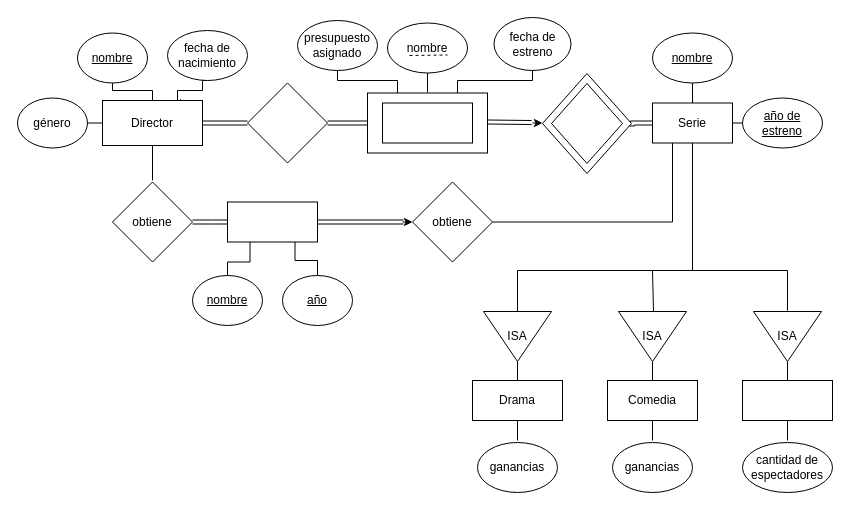
Some shapes in this 850 by 510 pixel diagram are drawn without their labels. Here are the shapes that lost their labels. From the top down, the centre of each, then its label:
At (x=287, y=122): "es dirigido".
At (x=427, y=122): "Episodios".
At (x=586, y=123): "tiene".
At (x=272, y=221): "Premios".
At (x=787, y=400): "Miniseries".
